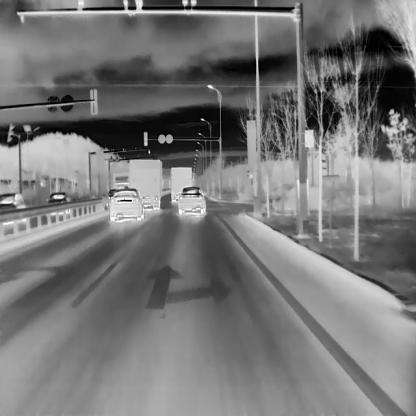car: (129, 159, 160, 209), (109, 188, 144, 220), (178, 186, 206, 215), (0, 191, 24, 224), (171, 167, 191, 203), (45, 190, 72, 215), (110, 160, 130, 189), (107, 189, 117, 199)
